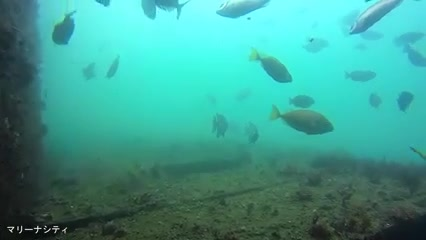smallfish: (238, 47, 294, 98), (196, 106, 238, 139), (338, 59, 384, 87)
